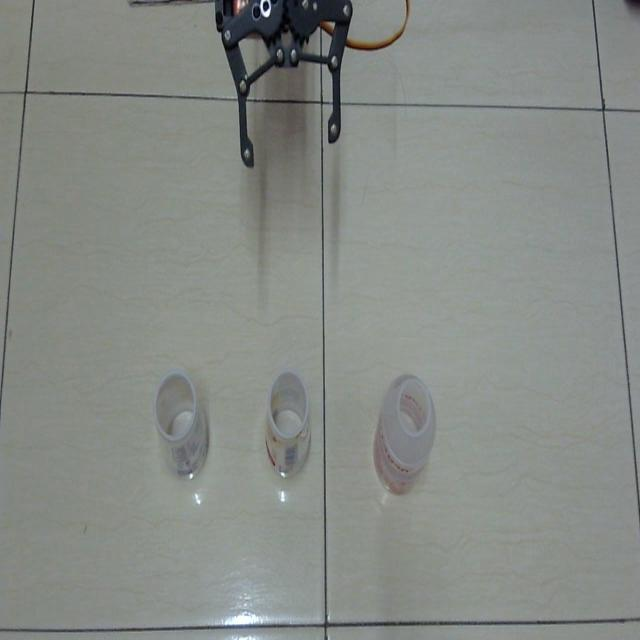plastic_standrotation: (370, 365, 440, 511), (151, 367, 211, 478), (260, 366, 316, 479)
